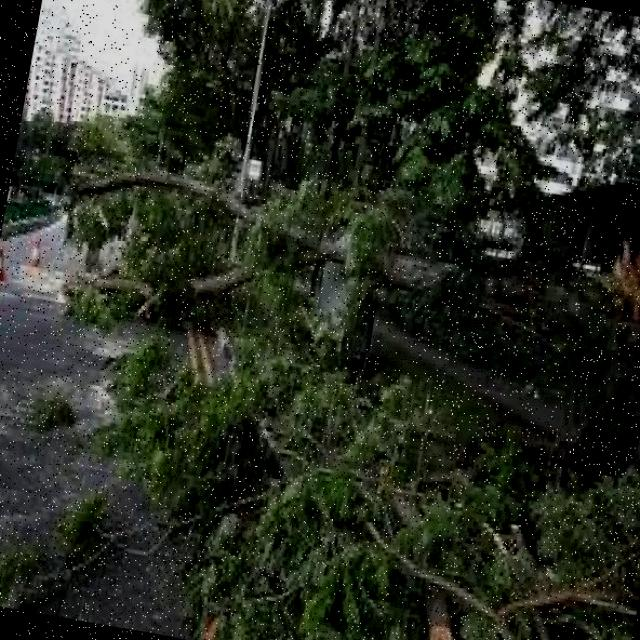fallen_object: (19, 93, 640, 414)
